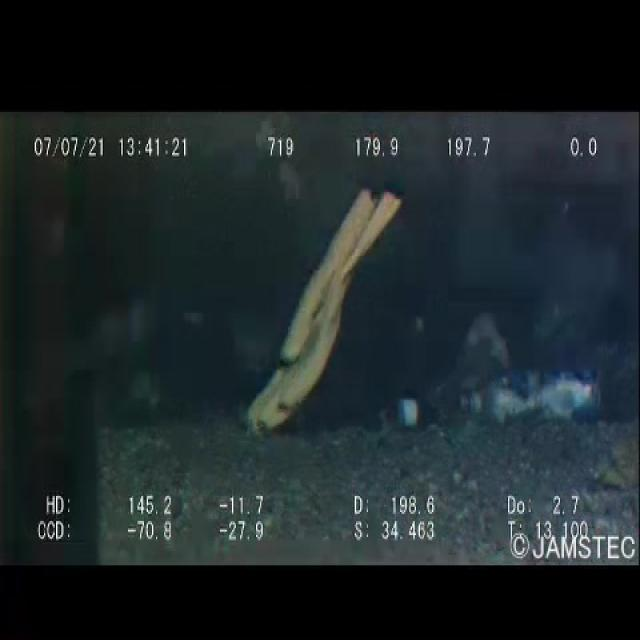plastic: (391, 364, 458, 444)
